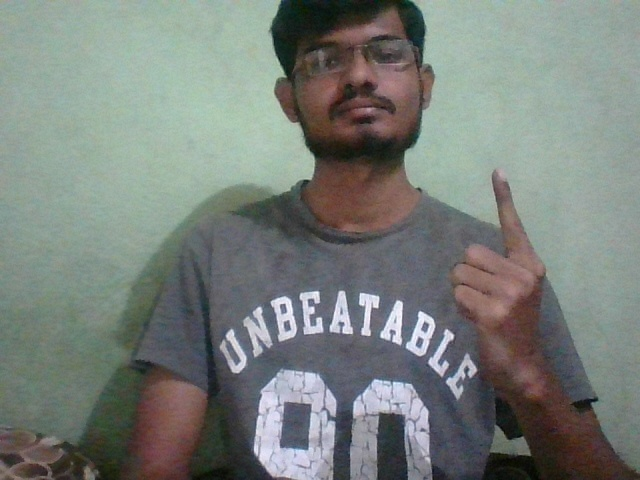where: (440, 165, 577, 364)
